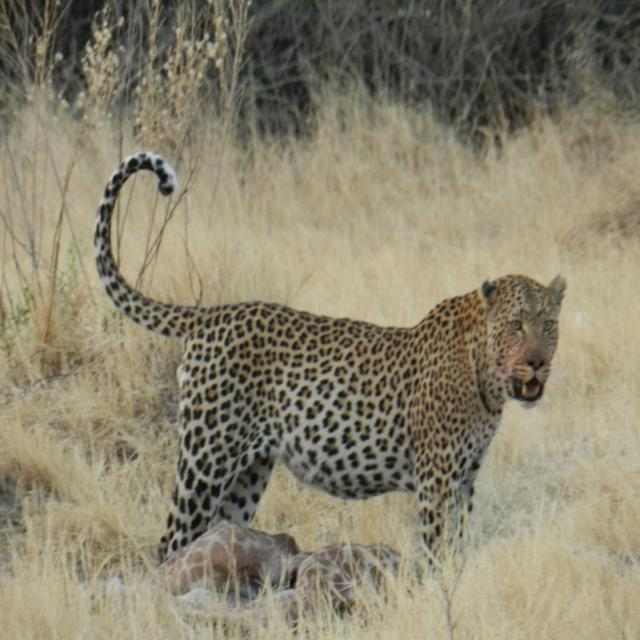Leopard: (88, 158, 569, 575)
